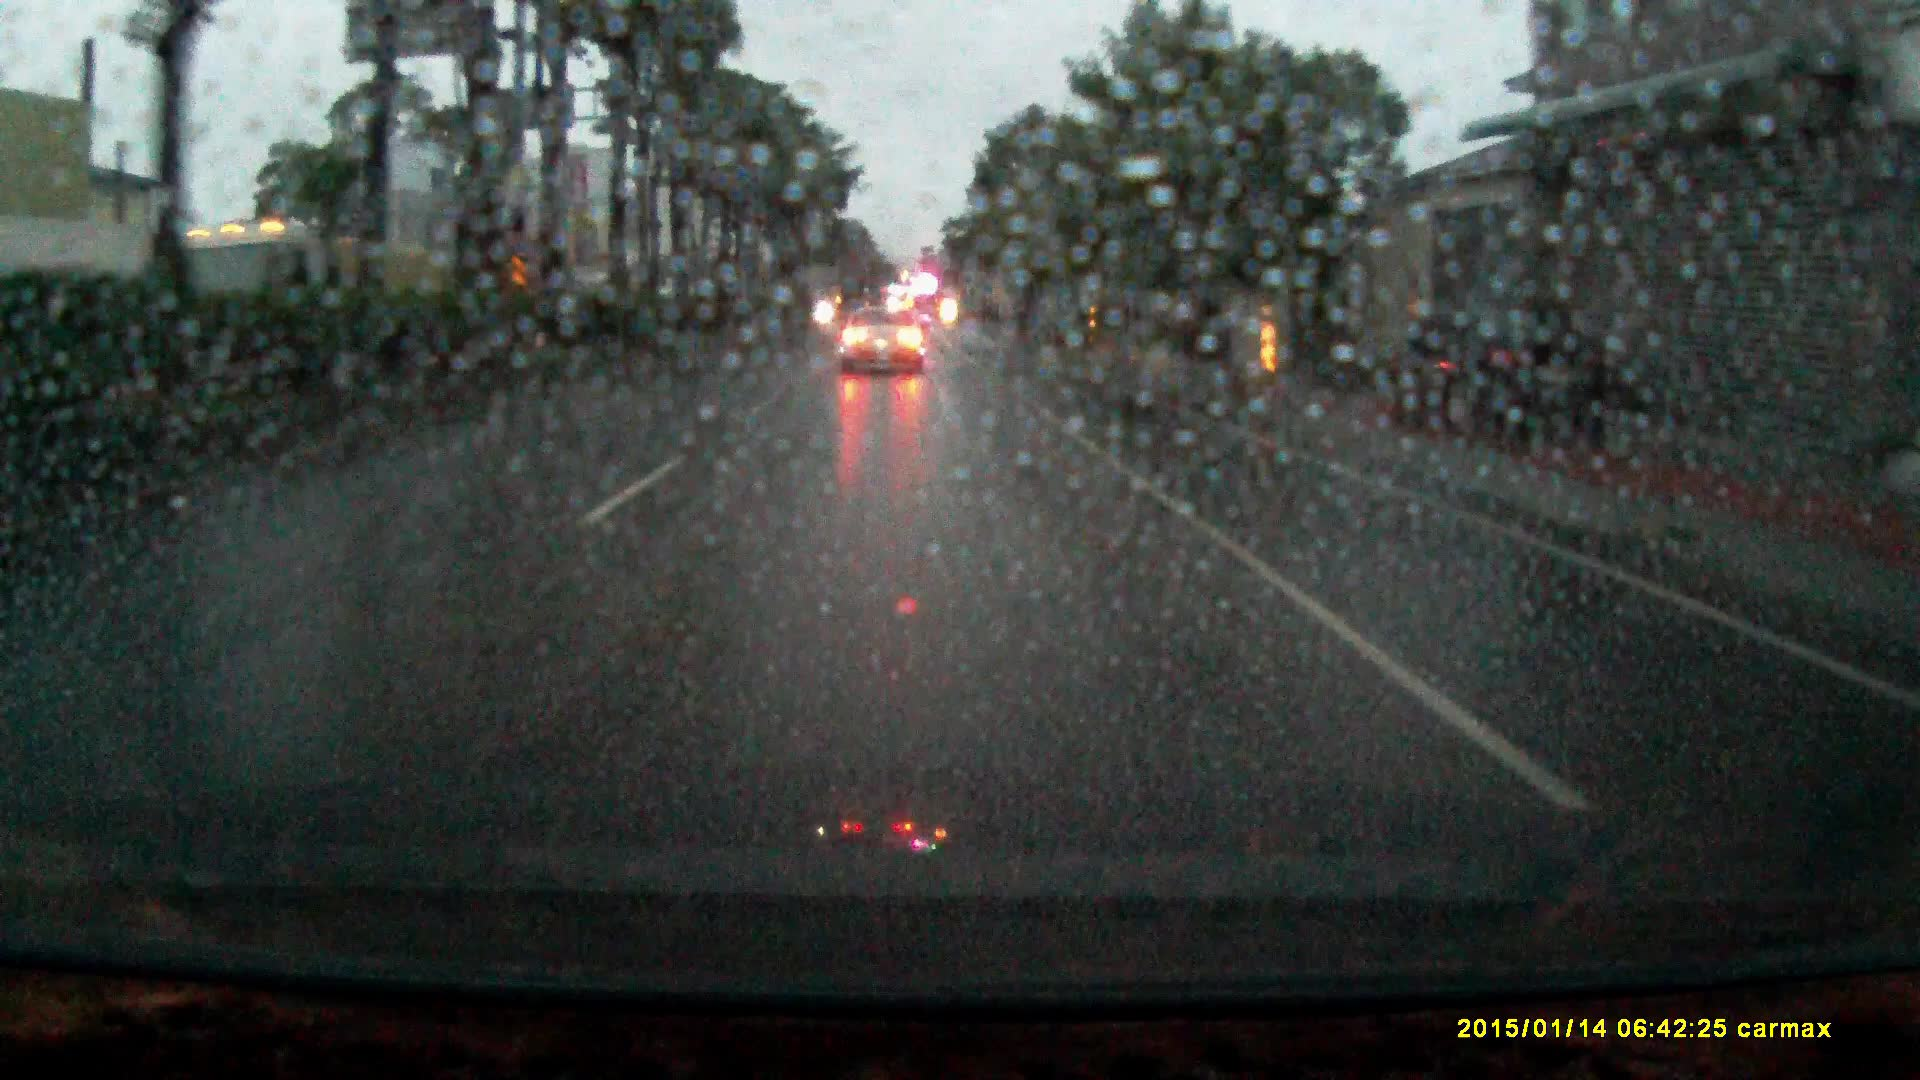vehicle: (153, 218, 451, 363), (1390, 291, 1615, 442), (837, 301, 927, 372)
